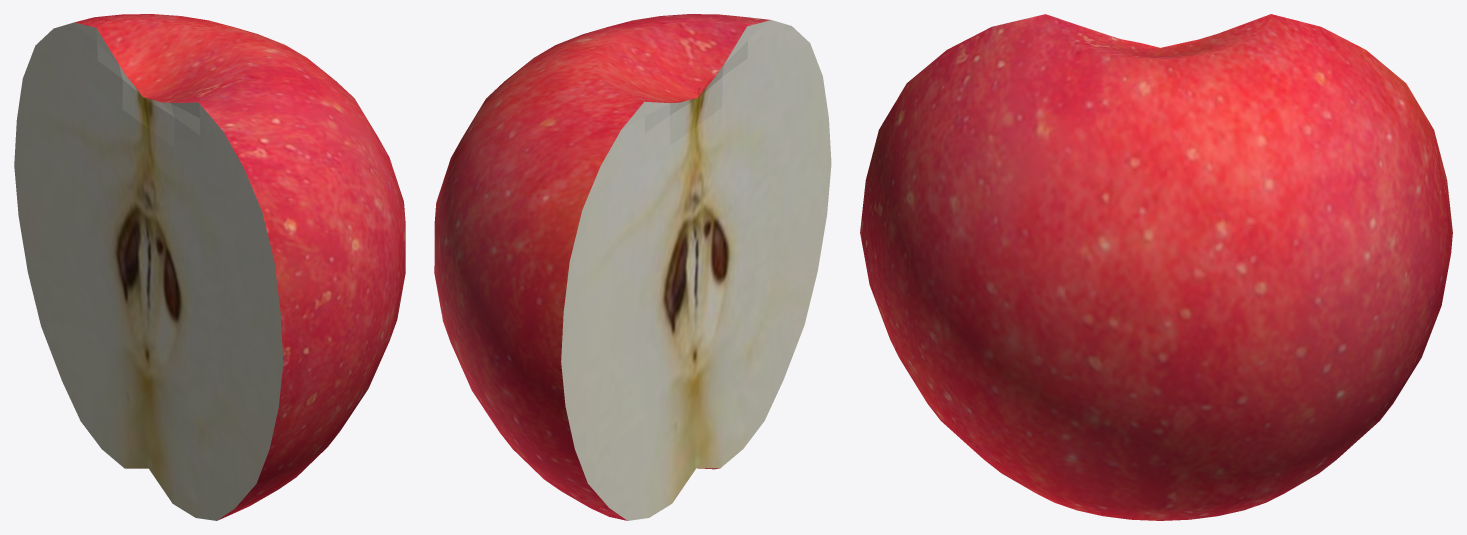
The model's file is Apple3.fbx.
The picture shows the model from 3 angles, left to right: view 1: azimuth 30°, elevation 25°; view 2: azimuth 150°, elevation 25°; view 3: azimuth 270°, elevation 25°; orthographic projection. The views are drawn at different scales.
Visible parts, largest first — view 1: Apple3; view 2: Apple3; view 3: Apple3.
Part boxes in pixels (left/top/right/bottom): Apple3: left=14, top=14, right=405, bottom=520; Apple3: left=434, top=14, right=831, bottom=520; Apple3: left=860, top=14, right=1452, bottom=520.
Size of the model in its own units: 1.46 by 2.59 by 3.
1 material, 1 textured.
